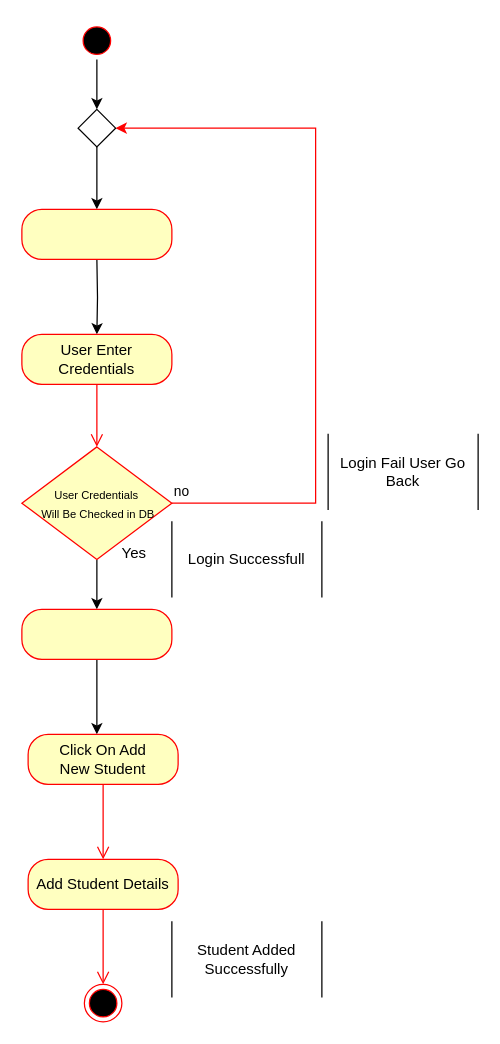
The diagram is 500 pixels wide and 1044 high, and some of its shapes have lost their labels. The box of each missing label's shape, as (x1, y1, x2, y2) in pixels:
Click On Add Student / Faculty: (21, 608, 172, 659)
User Click On Login: (21, 208, 172, 259)
